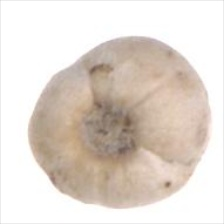L4: (26, 35, 211, 211)
